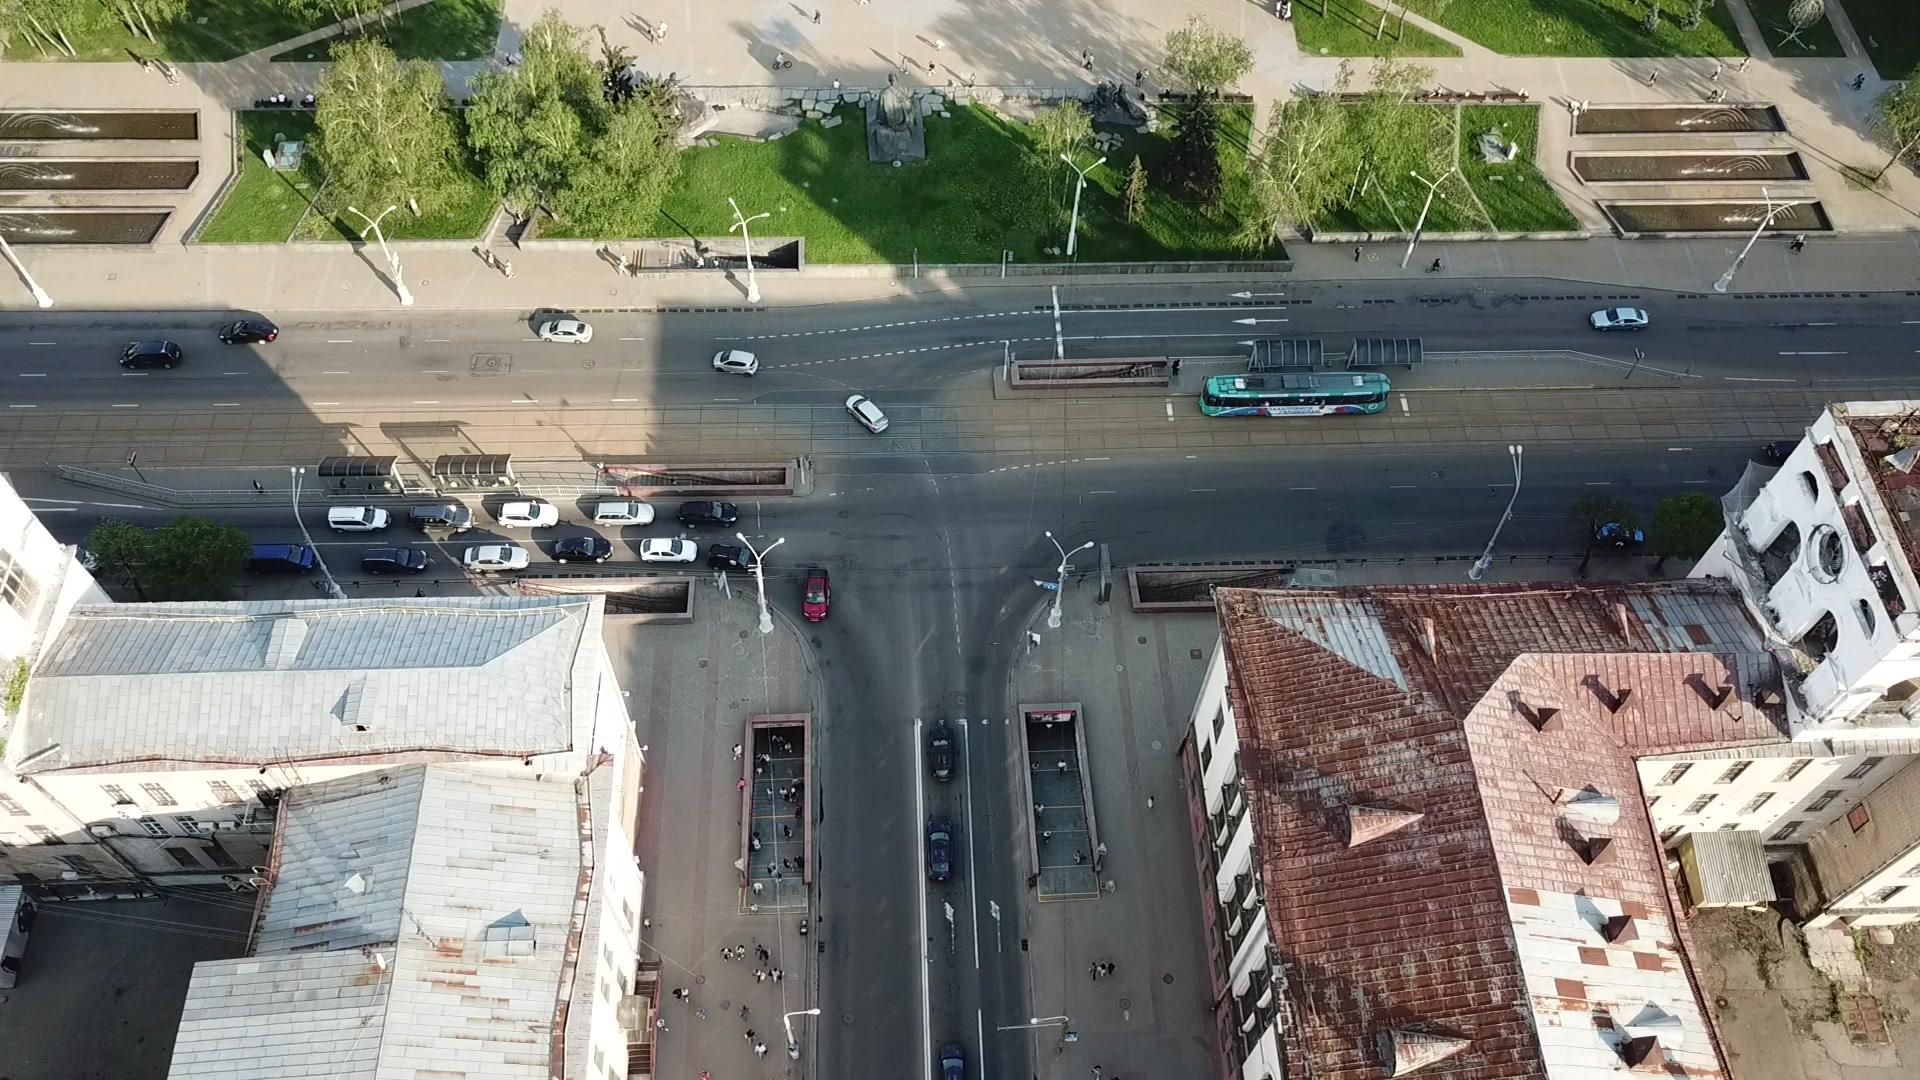car: (925, 817, 954, 885), (707, 542, 766, 574), (361, 546, 426, 575), (463, 545, 529, 573), (677, 499, 738, 529), (408, 504, 473, 532), (927, 723, 956, 785), (328, 505, 390, 533), (497, 501, 558, 529), (118, 341, 181, 368), (846, 393, 888, 433), (552, 536, 613, 563), (639, 536, 698, 563), (1591, 521, 1645, 550), (803, 566, 830, 622), (592, 501, 654, 525), (1589, 306, 1648, 331), (219, 321, 279, 345), (538, 319, 592, 344), (713, 349, 759, 376)
